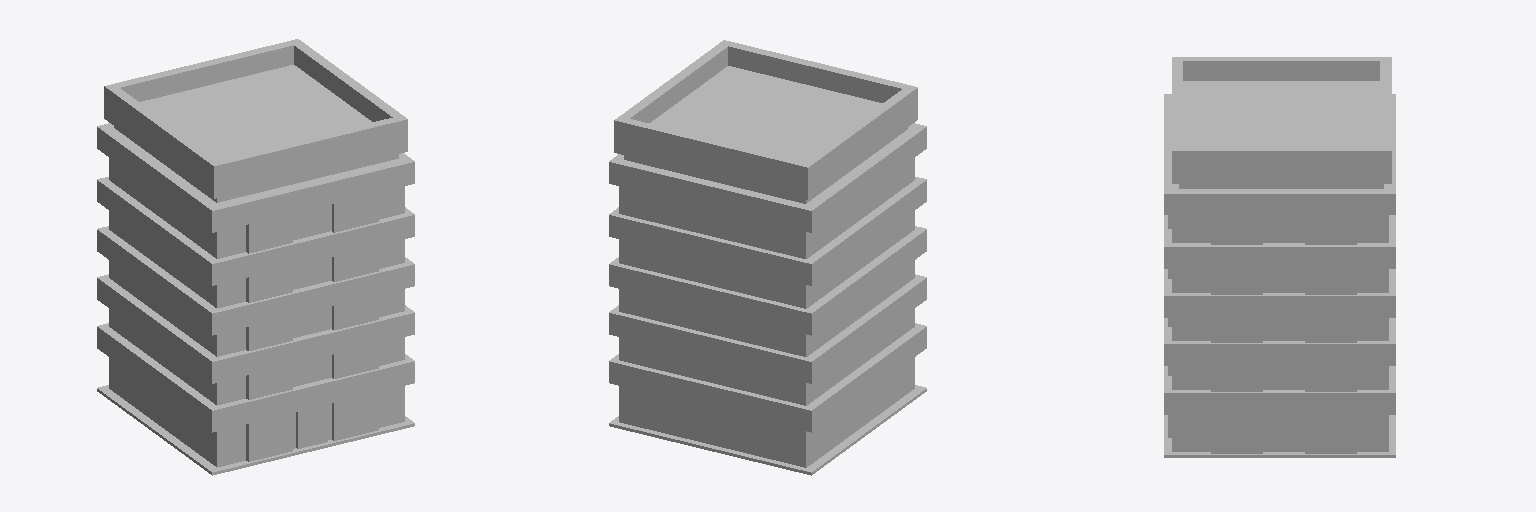
Rendered from building10.obj.
The picture shows the model from 3 angles: view 1: azimuth 30°, elevation 25°; view 2: azimuth 150°, elevation 25°; view 3: azimuth 270°, elevation 25°; orthographic projection.
Visible parts, largest first — view 1: texture_finish_now:pCube241 city; view 2: texture_finish_now:pCube241 city; view 3: texture_finish_now:pCube241 city.
Boxes of the visible parts, x1,y1,x2,y2 form: texture_finish_now:pCube241 city: [97, 39, 414, 475]; texture_finish_now:pCube241 city: [609, 40, 926, 475]; texture_finish_now:pCube241 city: [1164, 57, 1395, 457].
Bounding box in the file's own units: 3.48 × 5 × 3.44.